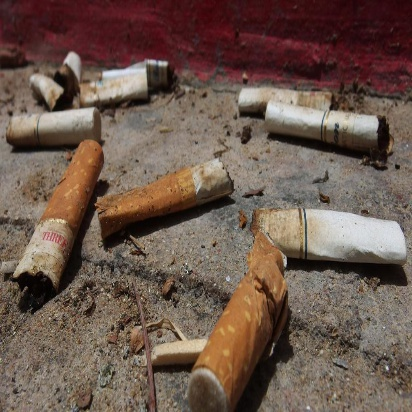cigarette: (184, 235, 293, 411), (13, 134, 106, 299), (95, 158, 241, 248), (244, 200, 409, 271), (260, 96, 394, 166), (1, 106, 111, 149)
